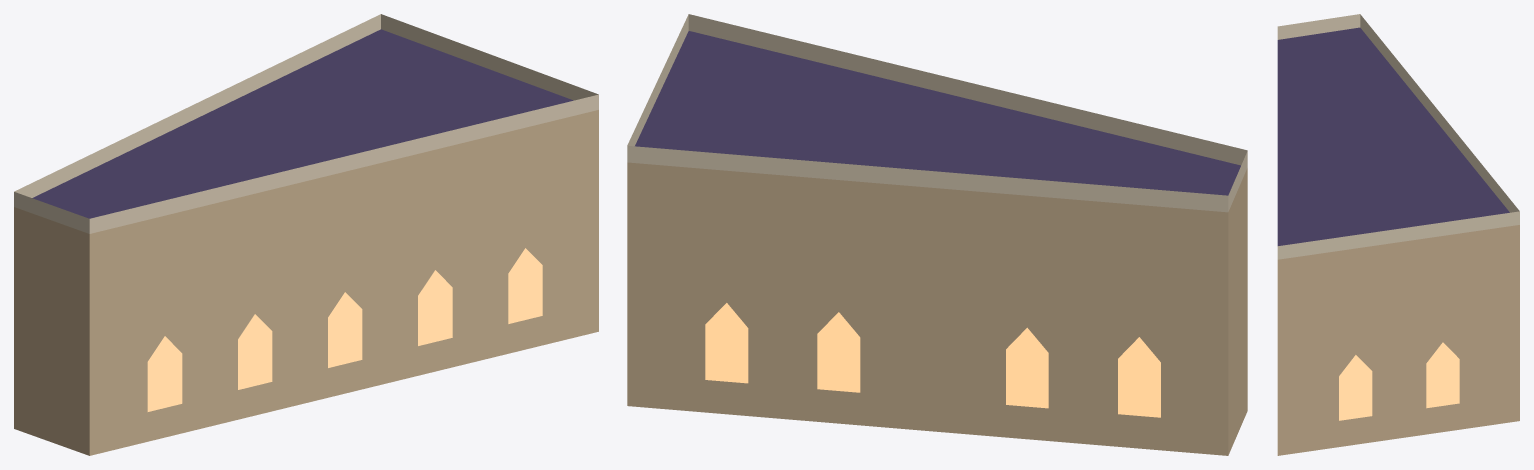
3 views of the same model, side by side, from view 1: azimuth 30°, elevation 25°; view 2: azimuth 150°, elevation 25°; view 3: azimuth 270°, elevation 25° (orthographic). The views are drawn at different scales.
Visible parts, largest first — view 1: campus/b-127-0; view 2: campus/b-127-0; view 3: campus/b-127-0.
Part boxes in pixels (x1,y1,x2,y2): campus/b-127-0: (14, 14, 598, 455); campus/b-127-0: (627, 14, 1247, 455); campus/b-127-0: (1277, 14, 1519, 455).
Bounding box in the file's own units: 20.31 × 8.55 × 9.01.
